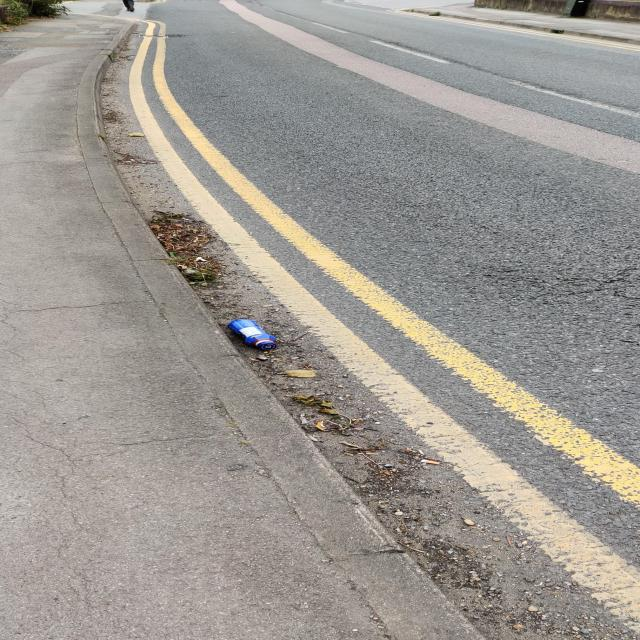litter: (226, 315, 283, 350)
